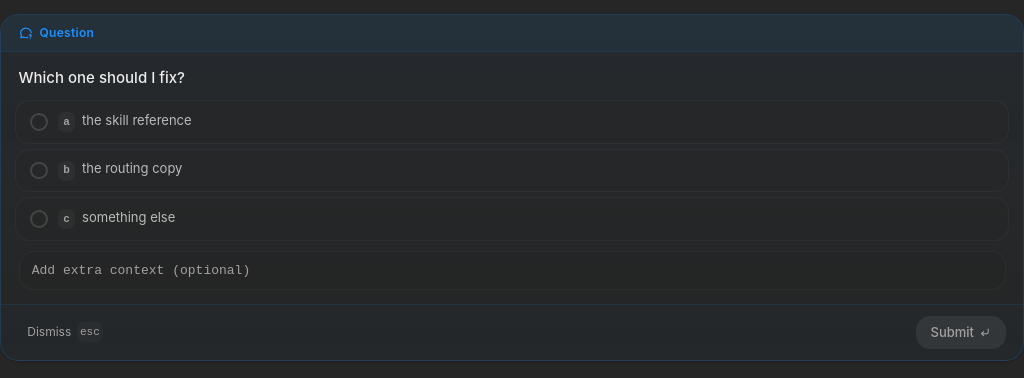
Test: QuestionCards free-text answers › enables Submit when the user writes an answer instead of picking one
Expected: the button "Submit" is disabled, [916, 316, 1006, 349]
Type "안녕하세요" into the field with placeholder "Add extra context (optional)".
click(512, 271); type("안녕하세요")  # box [18, 251, 1006, 290]
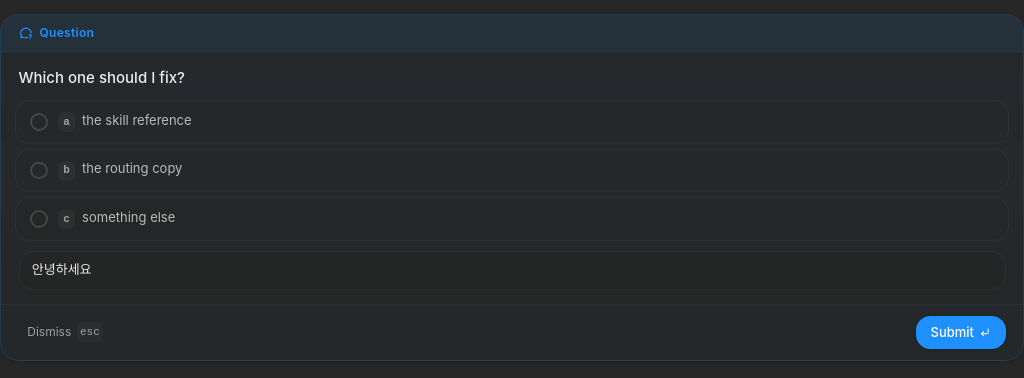
Now the button "Submit" is enabled, box [916, 316, 1006, 349]
